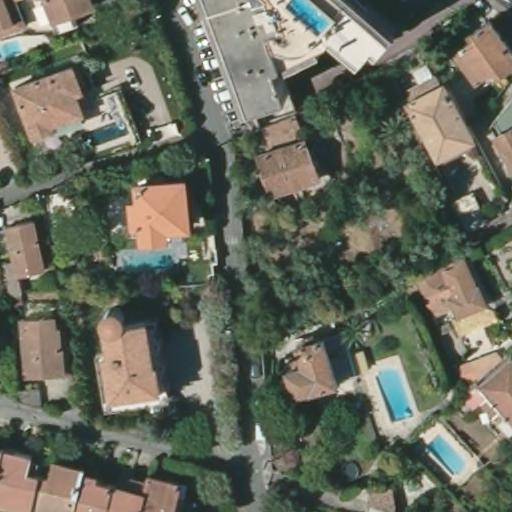pool: (425, 431, 480, 478), (371, 365, 415, 423), (110, 238, 183, 271), (280, 0, 337, 40), (0, 37, 24, 63)
